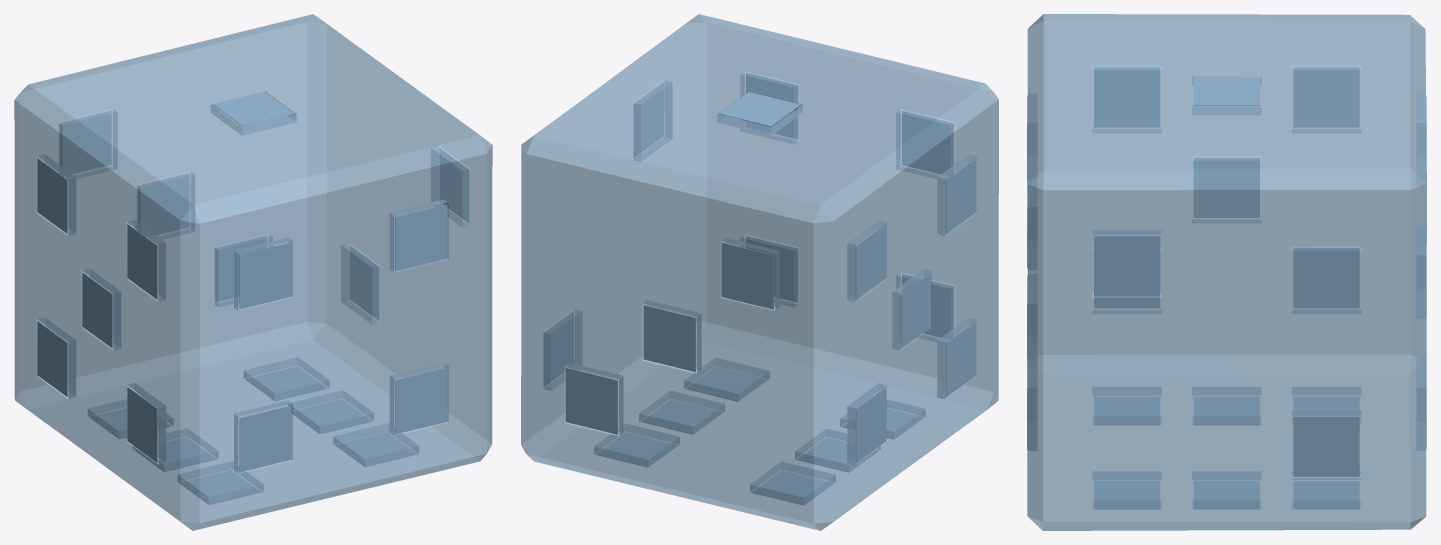
Rendered from glass_prism_dice.gltf.
3 views of the same model, side by side, from view 1: azimuth 30°, elevation 25°; view 2: azimuth 150°, elevation 25°; view 3: azimuth 270°, elevation 25° (orthographic). The views are drawn at different scales.
Visible parts, largest first — view 1: Glass_Prism_Dice; view 2: Glass_Prism_Dice; view 3: Glass_Prism_Dice.
Part boxes in pixels (left/top/right/bottom): Glass_Prism_Dice: left=14, top=14, right=492, bottom=530; Glass_Prism_Dice: left=521, top=14, right=998, bottom=530; Glass_Prism_Dice: left=1027, top=14, right=1426, bottom=530.
Size of what is drawn, in the model's own units: 2.01 by 2.01 by 2.01.
